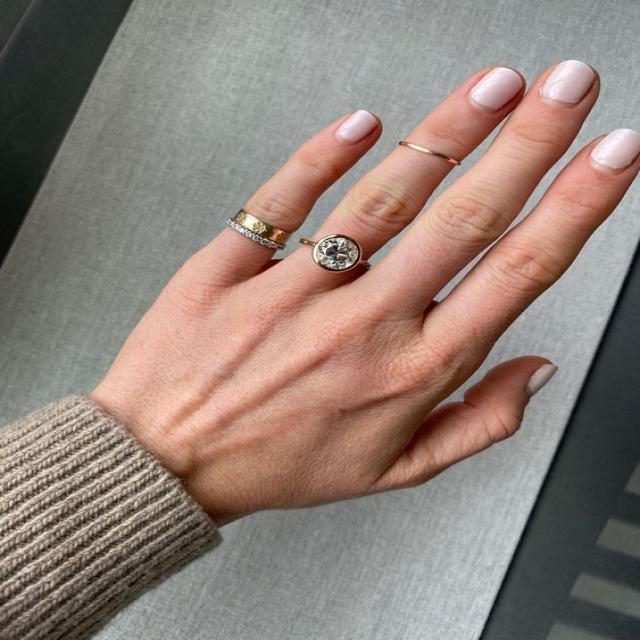Fingernail: (470, 68, 522, 112), (542, 61, 595, 104), (593, 129, 639, 170), (336, 110, 378, 143), (527, 364, 557, 396)
